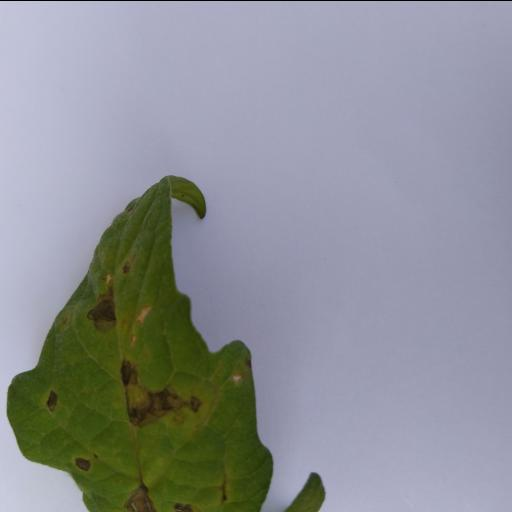Early Blight: (0, 176, 275, 512)
